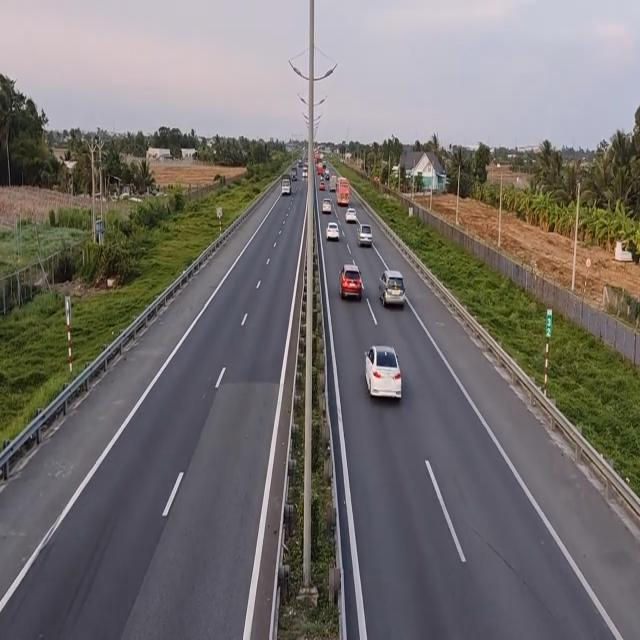bus: (336, 177, 352, 205)
car: (360, 341, 400, 402), (379, 270, 406, 310), (339, 264, 364, 301), (357, 223, 372, 249), (325, 220, 339, 241), (346, 207, 358, 224), (321, 199, 332, 216)
truck: (282, 176, 292, 196)
